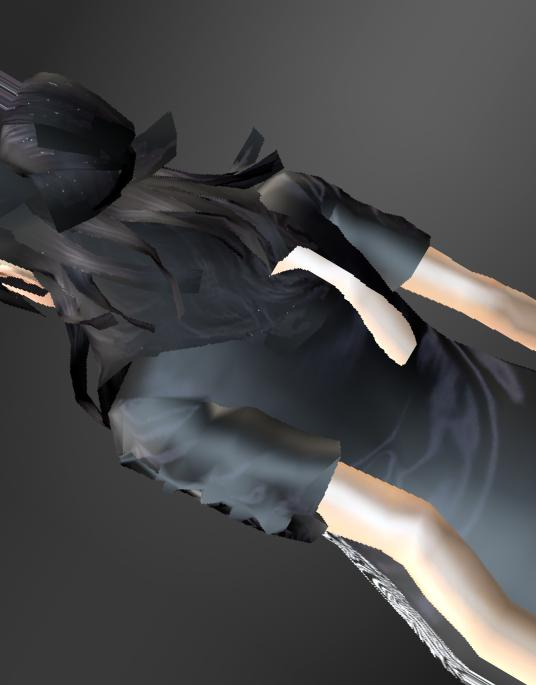clip: (274, 242, 368, 304)
